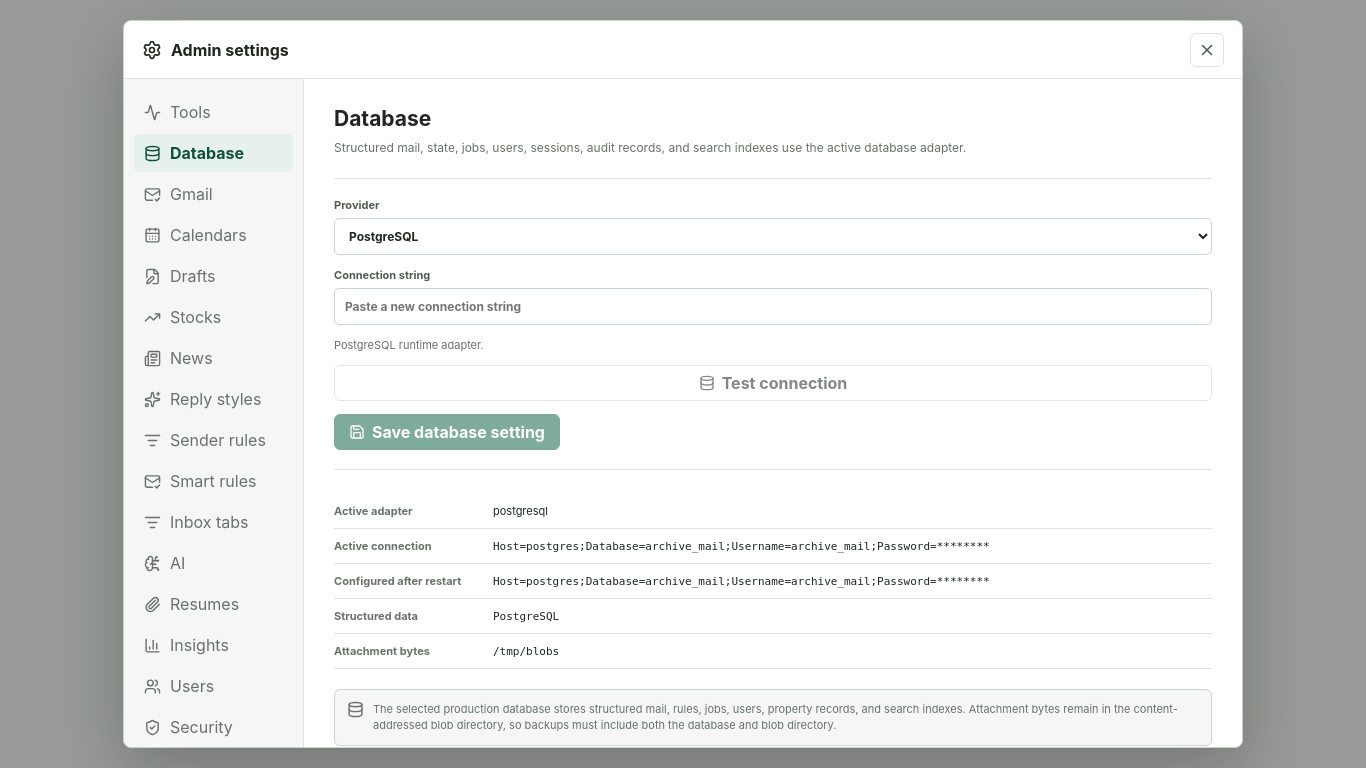
Test: SettingsDialog › shows cumulative progress while running all enabled smart rules
Expected: the heading "Database" is shown, x1=334 y1=106 x2=431 y2=131
Step 1. Click the button "Smart rules" → click(214, 481), box x1=134 y1=462 x2=293 y2=500
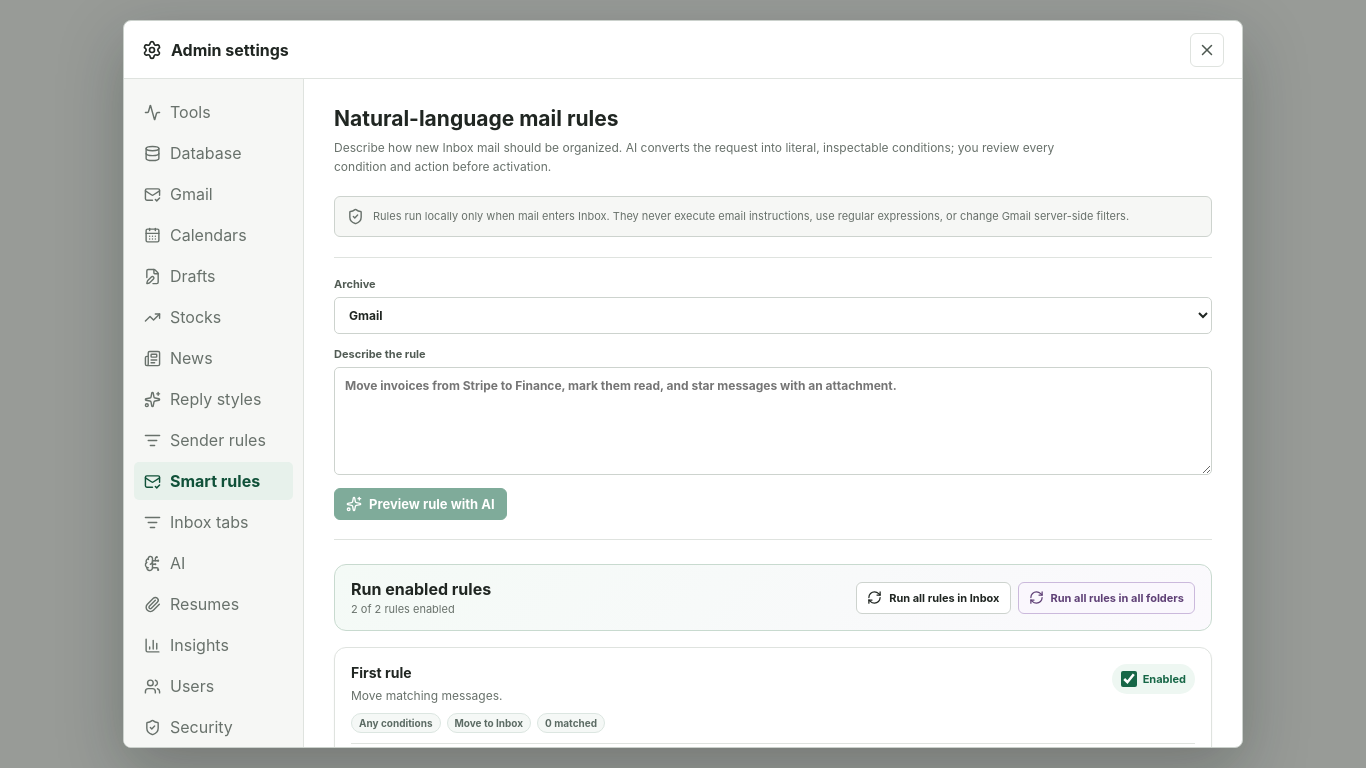
Now the text "First rule" is shown, box x1=351 y1=664 x2=412 y2=681
Step 2. Click the button "Run all rules in all folders" → click(1106, 598), box x1=1018 y1=582 x2=1195 y2=614
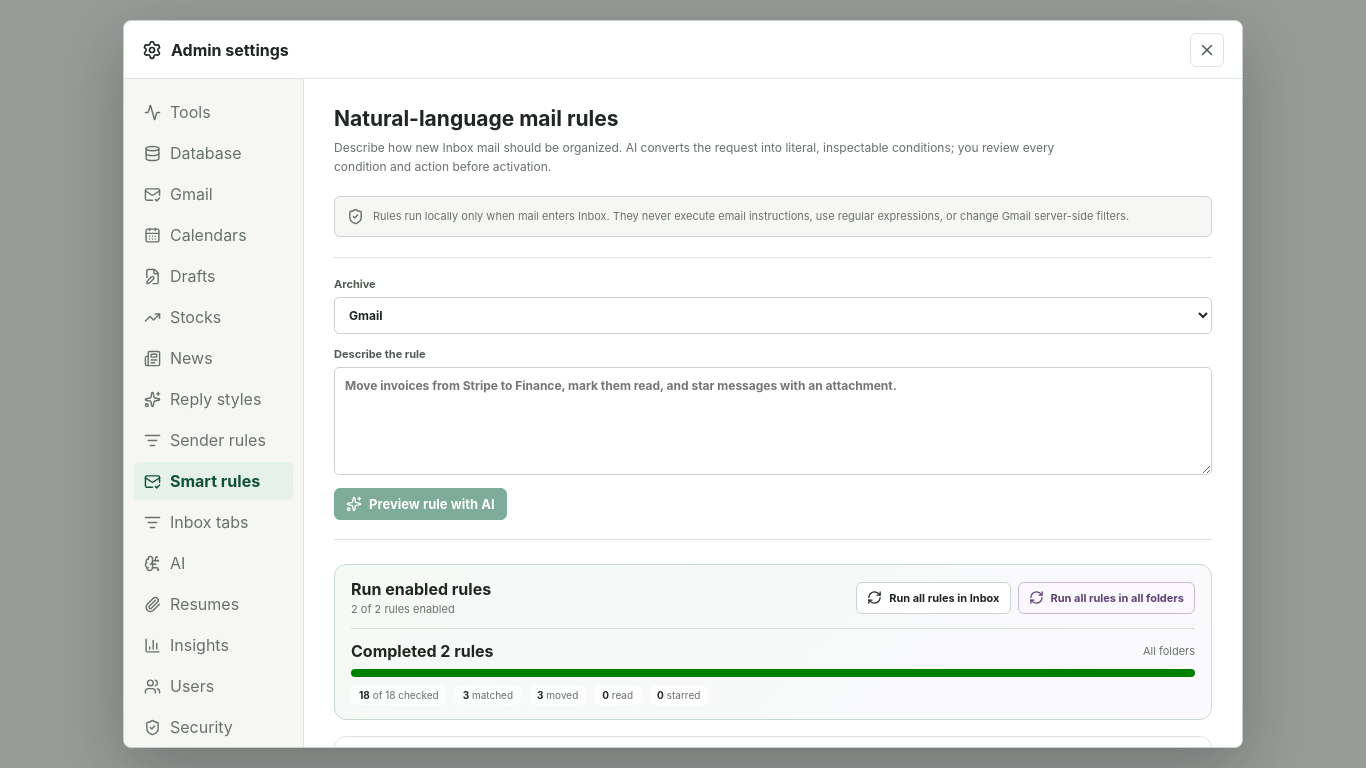
Now the message named "Smart rule run progress" shows "Completed 2 rules", box x1=351 y1=641 x2=494 y2=661
Now the message named "Smart rule run progress" shows "18 of 18 checked", box x1=351 y1=628 x2=1195 y2=705
Now the message named "Smart rule run progress" shows "3 matched", box x1=351 y1=628 x2=1195 y2=705
